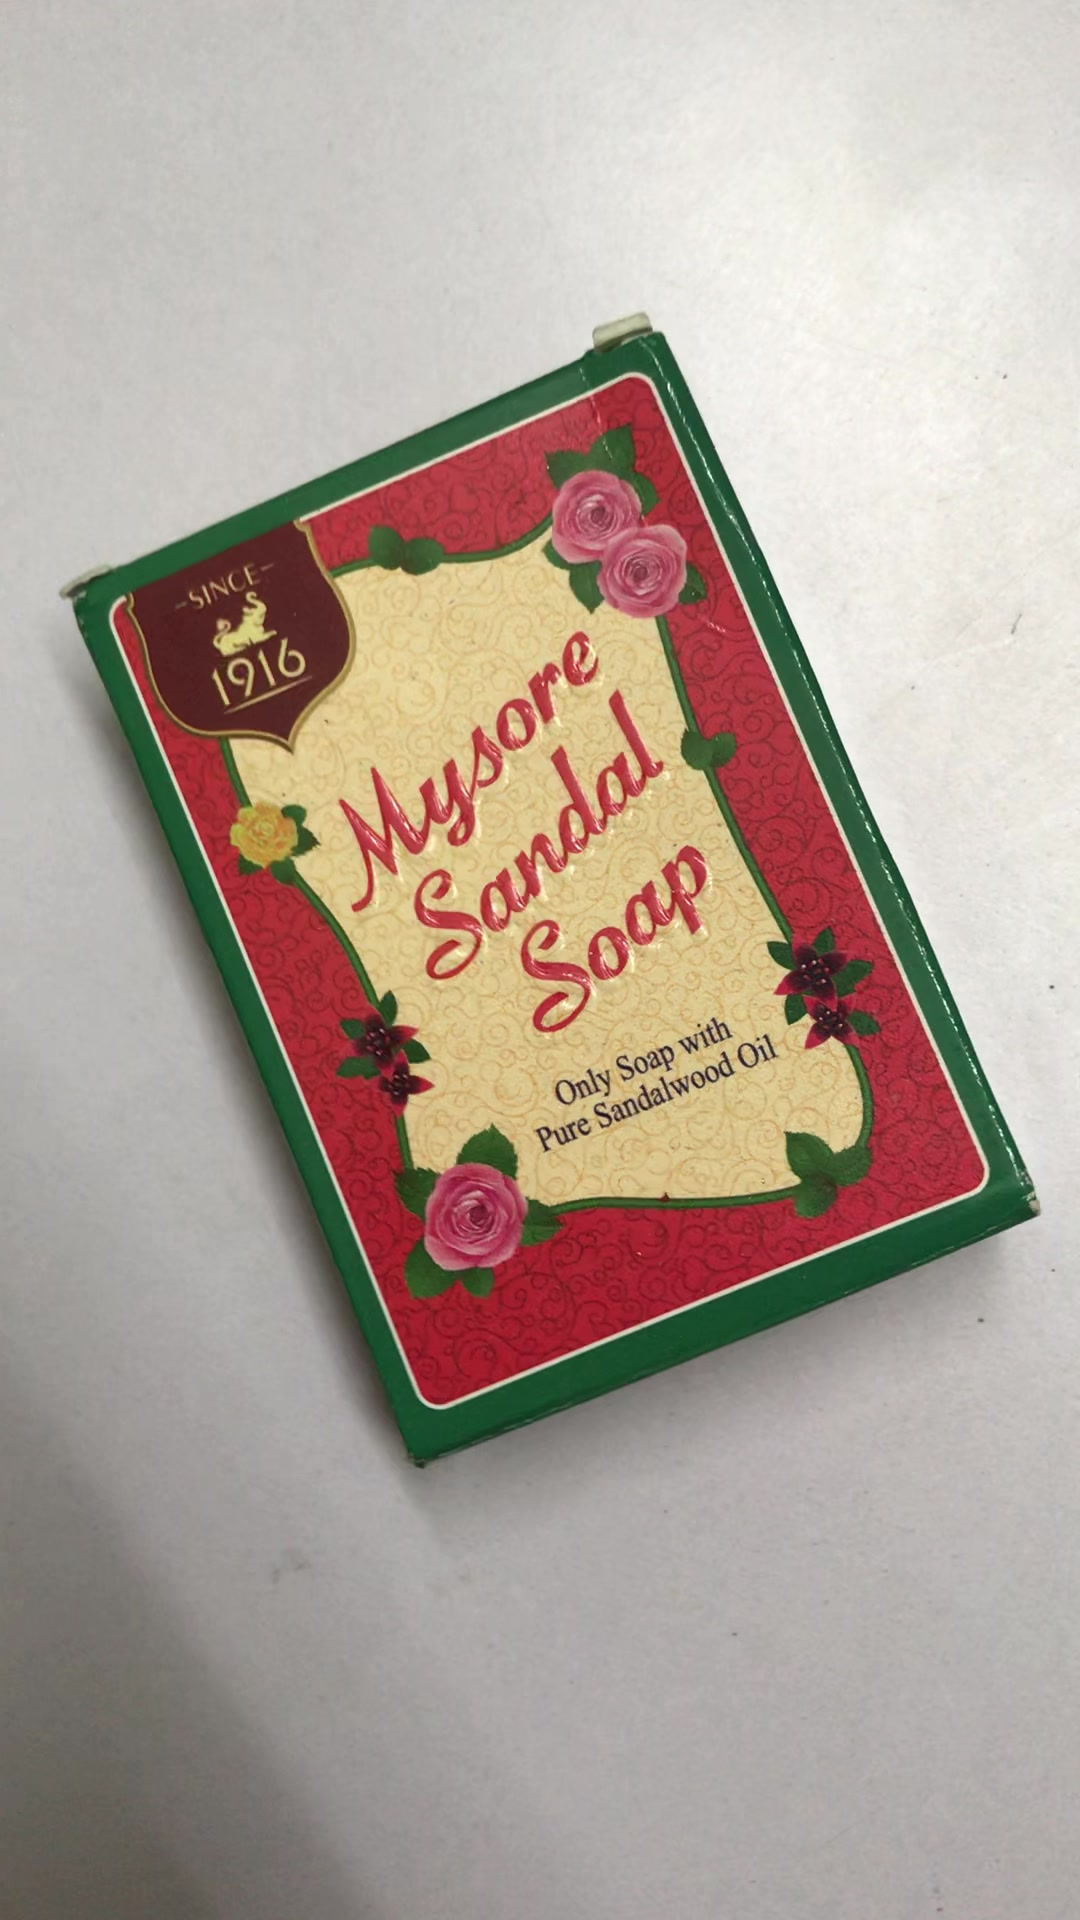mysore sandal soap: (61, 338, 1044, 1469)
